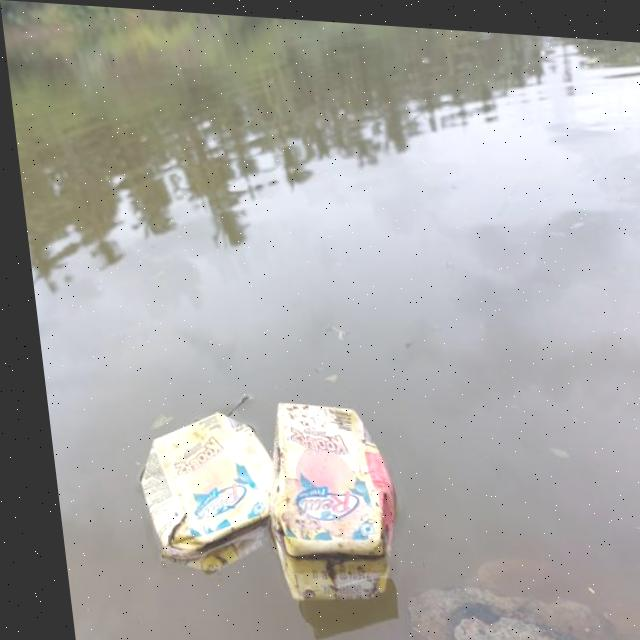paper: (117, 407, 270, 566), (254, 401, 406, 561)
